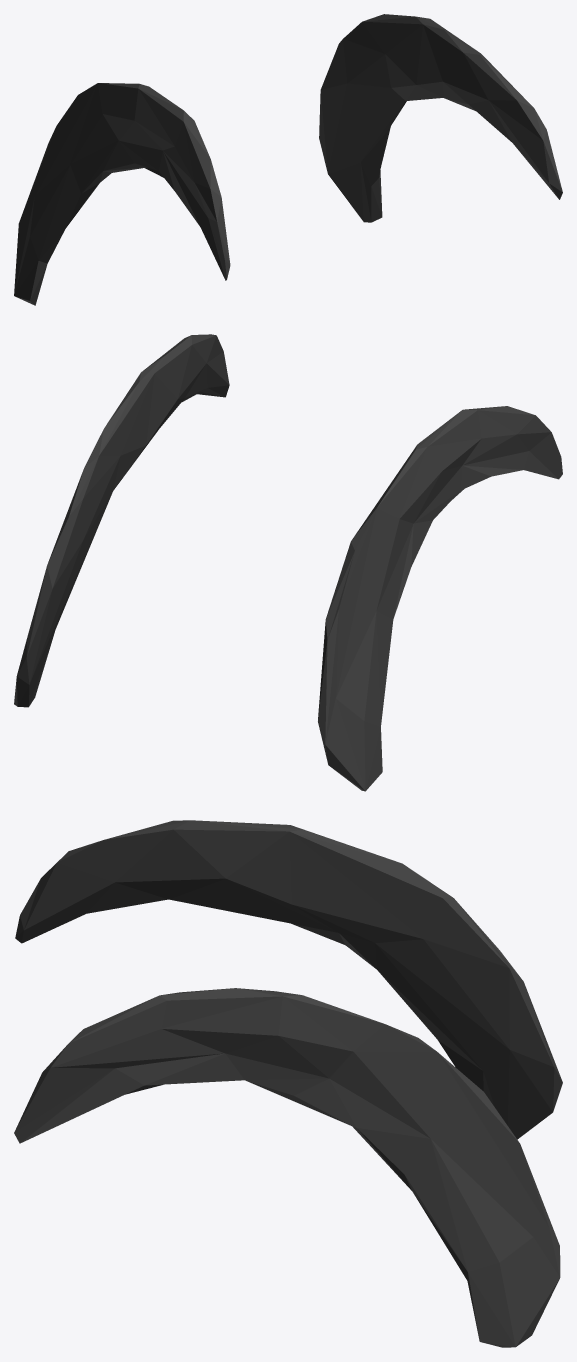
Rendered from Scapula_cartilage.glb.
3 views of the same model, one above another, from view 1: azimuth 30°, elevation 25°; view 2: azimuth 150°, elevation 25°; view 3: azimuth 270°, elevation 25° (orthographic). The views are drawn at different scales.
Visible parts, largest first — view 1: Scapula_cartilage; view 2: Scapula_cartilage; view 3: Scapula_cartilage.
Part boxes in pixels (x1,y1,x2,y2): Scapula_cartilage: (14,14,562,305); Scapula_cartilage: (14,334,562,791); Scapula_cartilage: (14,820,562,1347).
Size of the model in its own units: 0.00218 by 0.00165 by 0.00239.
1 material, 1 textured.
